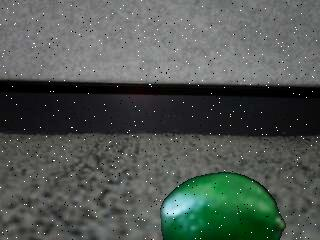Lime: (160, 172, 286, 240)
